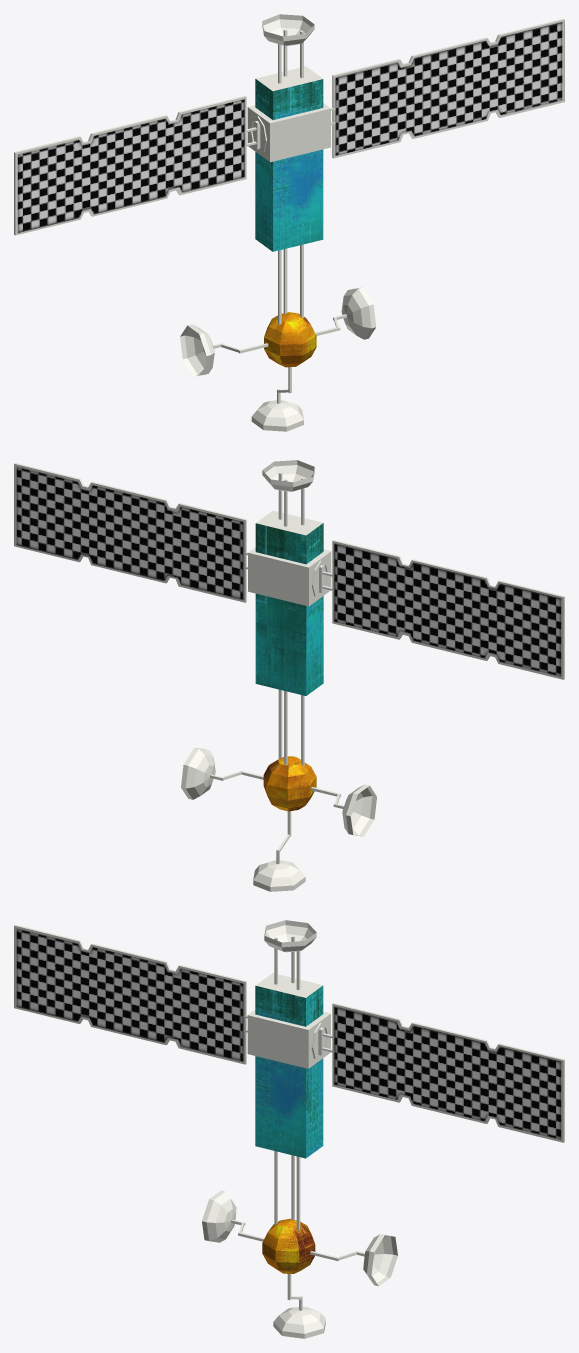
File: SateliteMeta.DAE
The picture shows the model from 3 angles, top to bottom: view 1: azimuth 30°, elevation 25°; view 2: azimuth 150°, elevation 25°; view 3: azimuth 330°, elevation 25°; orthographic projection.
Visible parts, largest first — view 1: sateliteLLegada; view 2: sateliteLLegada; view 3: sateliteLLegada.
Part boxes in pixels (left/top/right/bottom): sateliteLLegada: left=14, top=14, right=564, bottom=431; sateliteLLegada: left=14, top=460, right=564, bottom=891; sateliteLLegada: left=14, top=920, right=564, bottom=1338.
Size of the model in its own units: 17.98 by 2.15 by 12.59.
Materials: 1 (1 with a texture image).
